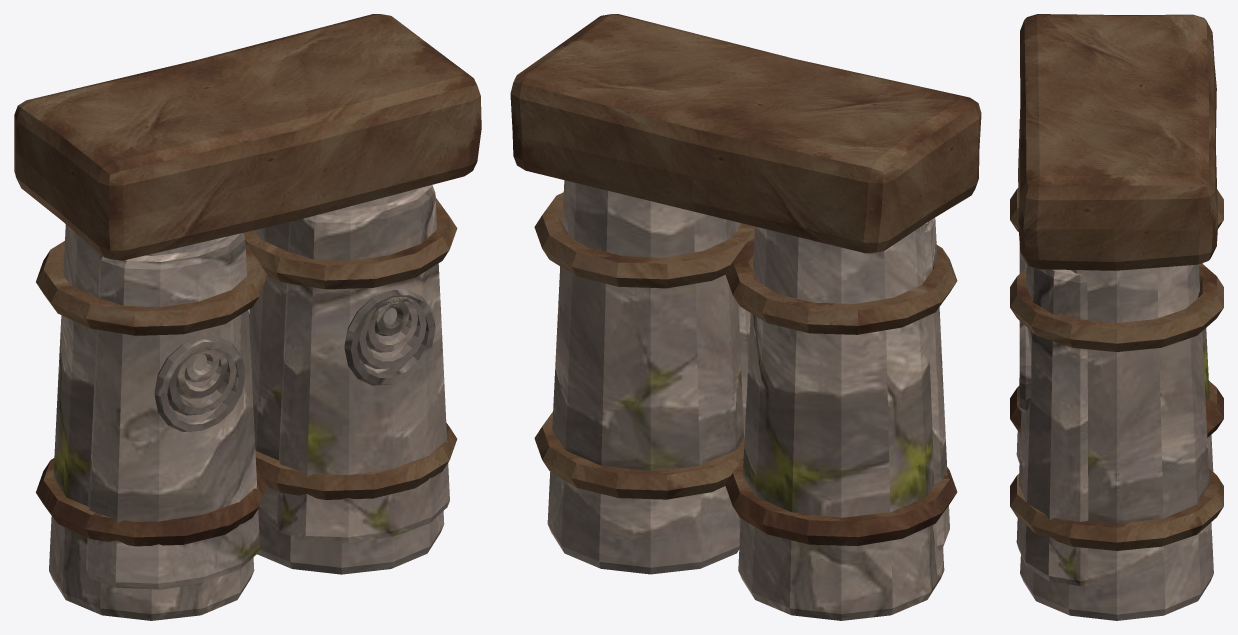
Rendered from greaves_shell.glb.
3 renders of one model, left to right at view 1: azimuth 30°, elevation 25°; view 2: azimuth 150°, elevation 25°; view 3: azimuth 270°, elevation 25°, orthographic. The views are drawn at different scales.
Visible parts, largest first — view 1: model; view 2: model; view 3: model.
Boxes of the visible parts, <box> form: model: <box>14,14,481,620</box>; model: <box>510,14,981,620</box>; model: <box>1010,14,1223,620</box>.
Size of the model in its own units: 0.35 by 0.4036 by 0.1755.
Materials: 3 (3 with a texture image).
